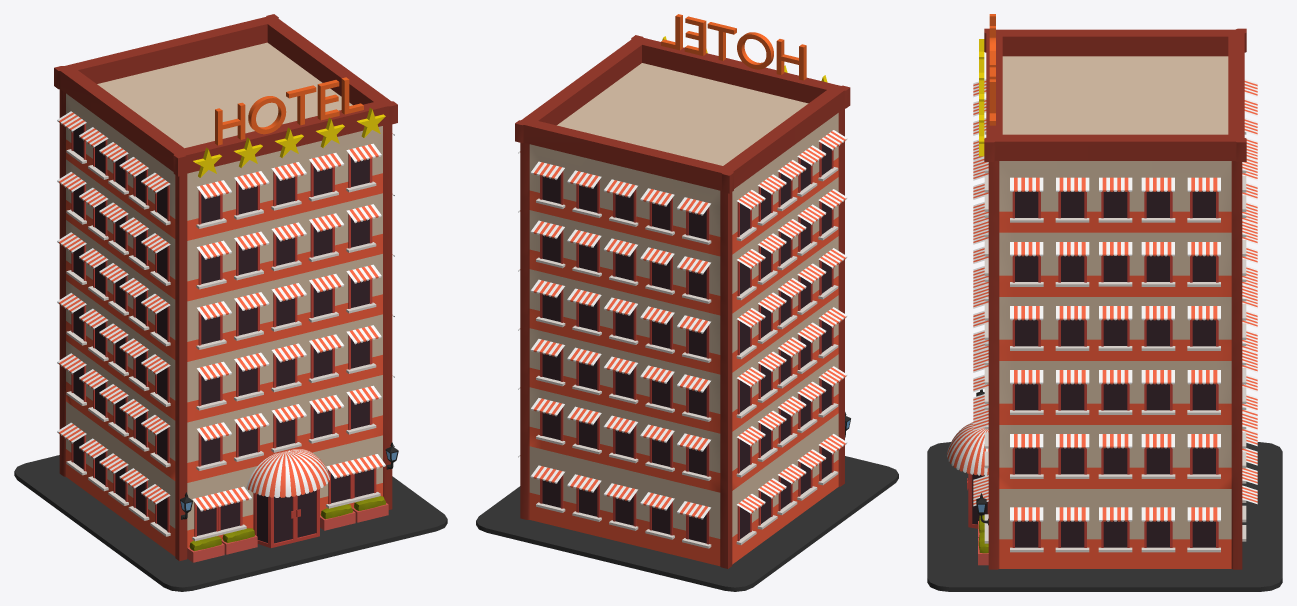
Rendered from hotel_stars_night.glb.
3 renders of one model, left to right at view 1: azimuth 30°, elevation 25°; view 2: azimuth 150°, elevation 25°; view 3: azimuth 270°, elevation 25°, orthographic. The views are drawn at different scales.
Visible parts, largest first — view 1: hotel_stars; view 2: hotel_stars; view 3: hotel_stars.
Boxes of the visible parts, box(x1,y1,x2,y2) form: hotel_stars: box(14, 14, 447, 591); hotel_stars: box(476, 14, 898, 591); hotel_stars: box(927, 14, 1282, 591).
Bounding box in the file's own units: 2.71 × 4.09 × 2.8.
1 material, 1 textured.
